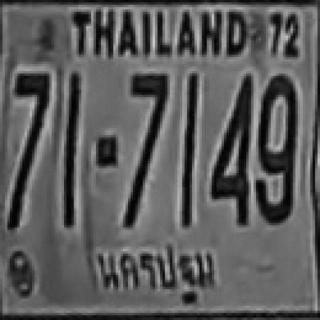N00: (256, 72, 296, 170)
N07: (128, 72, 168, 158), (14, 71, 48, 149)
N09: (253, 123, 293, 223)
P28: (91, 238, 222, 314)
